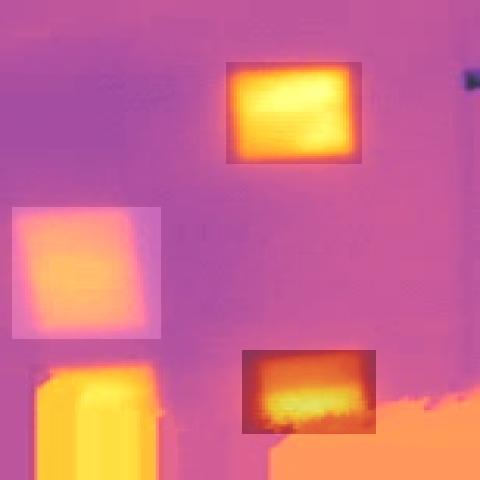fault: (12, 207, 161, 339), (28, 364, 163, 480), (226, 62, 362, 164), (242, 350, 376, 434)
